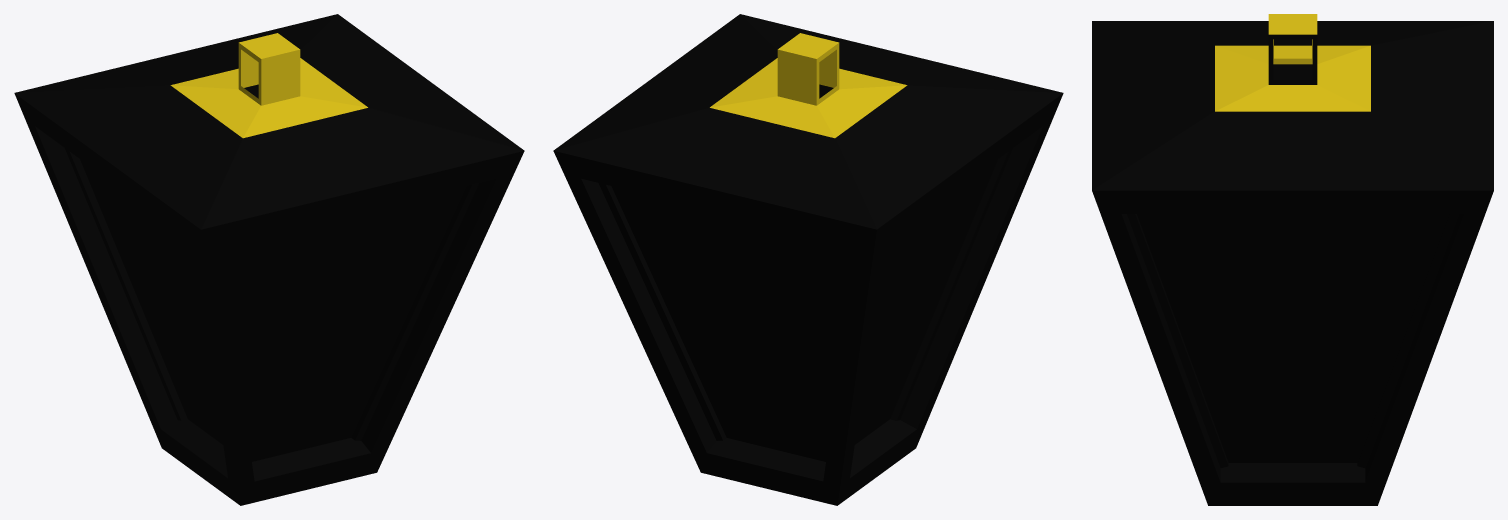
File: lantern.glb
The picture shows the model from 3 angles, left to right: view 1: azimuth 30°, elevation 25°; view 2: azimuth 150°, elevation 25°; view 3: azimuth 270°, elevation 25°; orthographic projection. The views are drawn at different scales.
Parts seen in each view (by area): view 1: Cube; view 2: Cube; view 3: Cube.
Part boxes in pixels (box(x1,y1,x2,y2)): Cube: box(14, 14, 524, 505); Cube: box(553, 14, 1063, 505); Cube: box(1092, 14, 1493, 505).
Bounding box in the file's own units: 2 × 2.45 × 2.
